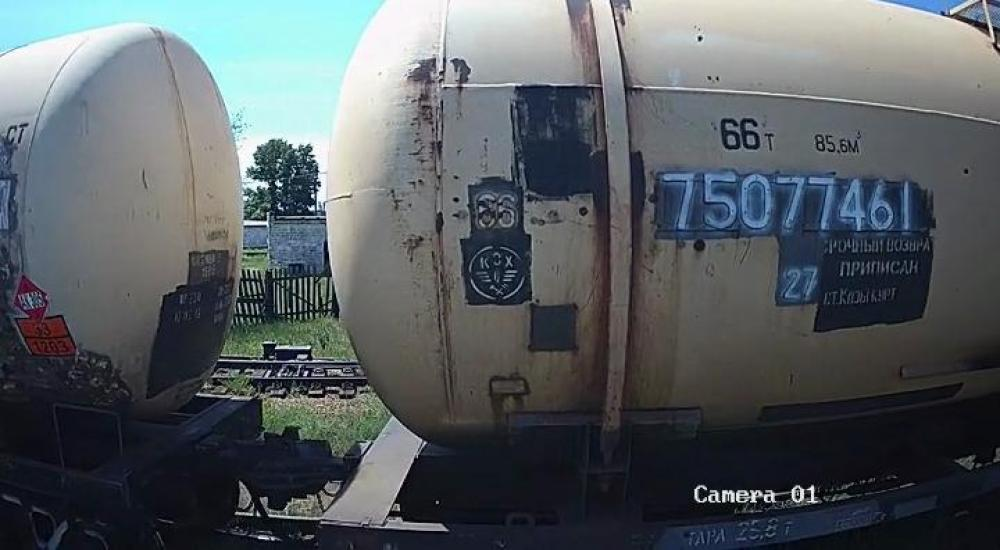Wagon-number: (653, 170, 923, 236)
